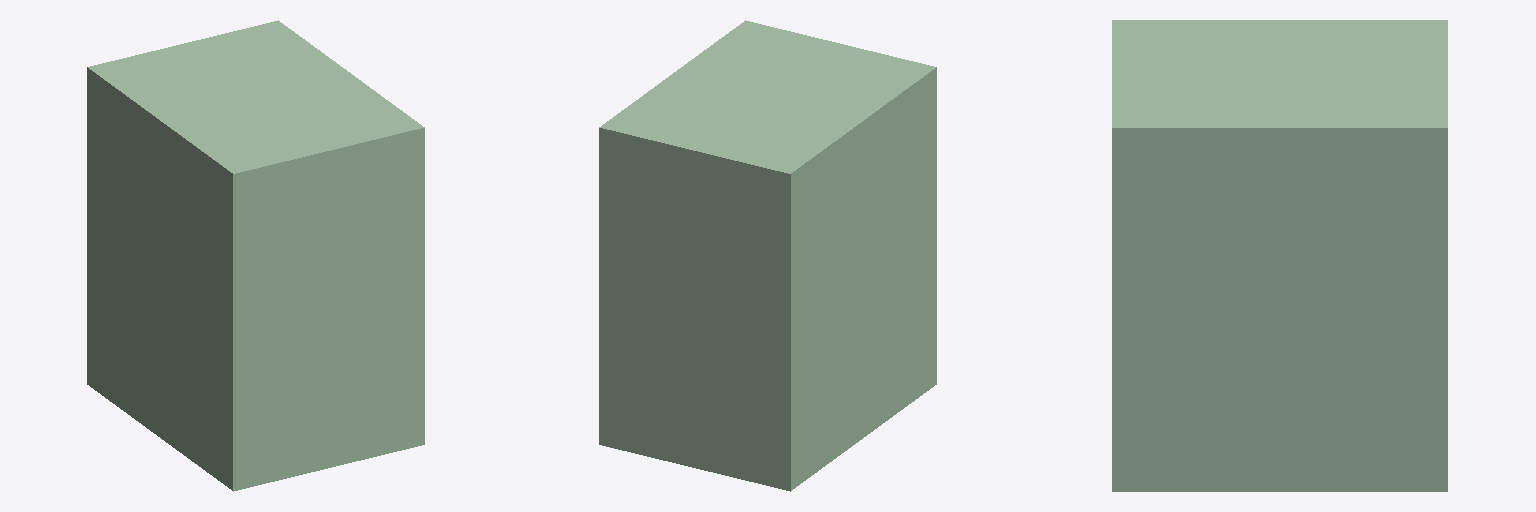
The robot description file, URDF, robot "box.urdf":
<?xml version="1.0" ?>
<robot name="box.urdf">
  <link name="baseLink">
    <contact>
      <lateral_friction value="1.0"/>
      <rolling_friction value="0.0001"/>
      <inertia_scaling value="3.0"/>
    </contact>
    <inertial>
      <origin rpy="0 0 0" xyz="0 0 0"/>
       <mass value="0.1"/>
       <inertia ixx="1" ixy="0" ixz="0" iyy="1" iyz="0" izz="1"/>
    </inertial>
    <visual>
      <origin rpy="0 0 0" xyz="0 0 0"/>
      <geometry>
        <!-- <box size="0.17600000000000002 0.233 0.27899999999999997"/> -->
        <mesh filename="box/box.obj" scale="0.17600000000000002 0.233 0.27899999999999997"/>
      </geometry>
      <material name="white">
        <color rgba="0.7 0.8 0.7 1"/>
      </material>
    </visual>
    <collision>
      <origin rpy="0 0 0" xyz="0 0 0"/>
      <geometry>
        <mesh filename="box/box.obj" scale="0.17600000000000002 0.233 0.27899999999999997"/>
	 	    <!-- <box size="0.17600000000000002 0.233 0.27899999999999997"/> -->
      </geometry>
    </collision>
  </link>
</robot>

--- What the picture shows (computed from the rendered views, not written in the file) ---
3 views of the same robot in one strip: view 1: azimuth 30°, elevation 25°; view 2: azimuth 150°, elevation 25°; view 3: azimuth 270°, elevation 25° (orthographic).
Robot: box.urdf — 1 links, 0 joints (none); root link baseLink; default pose: all joints at 0.
Links seen in each view (by area): view 1: baseLink; view 2: baseLink; view 3: baseLink.
Boxes of the visible links, x1,y1,x2,y2 form: baseLink: [87, 20, 424, 491]; baseLink: [599, 20, 936, 491]; baseLink: [1112, 20, 1447, 491].
Bounding box of the posed robot: 0.176 × 0.233 × 0.279 m (x, y, z).
Meshes: 1 distinct files referenced, 1 mesh visuals loaded (1 OBJ).
